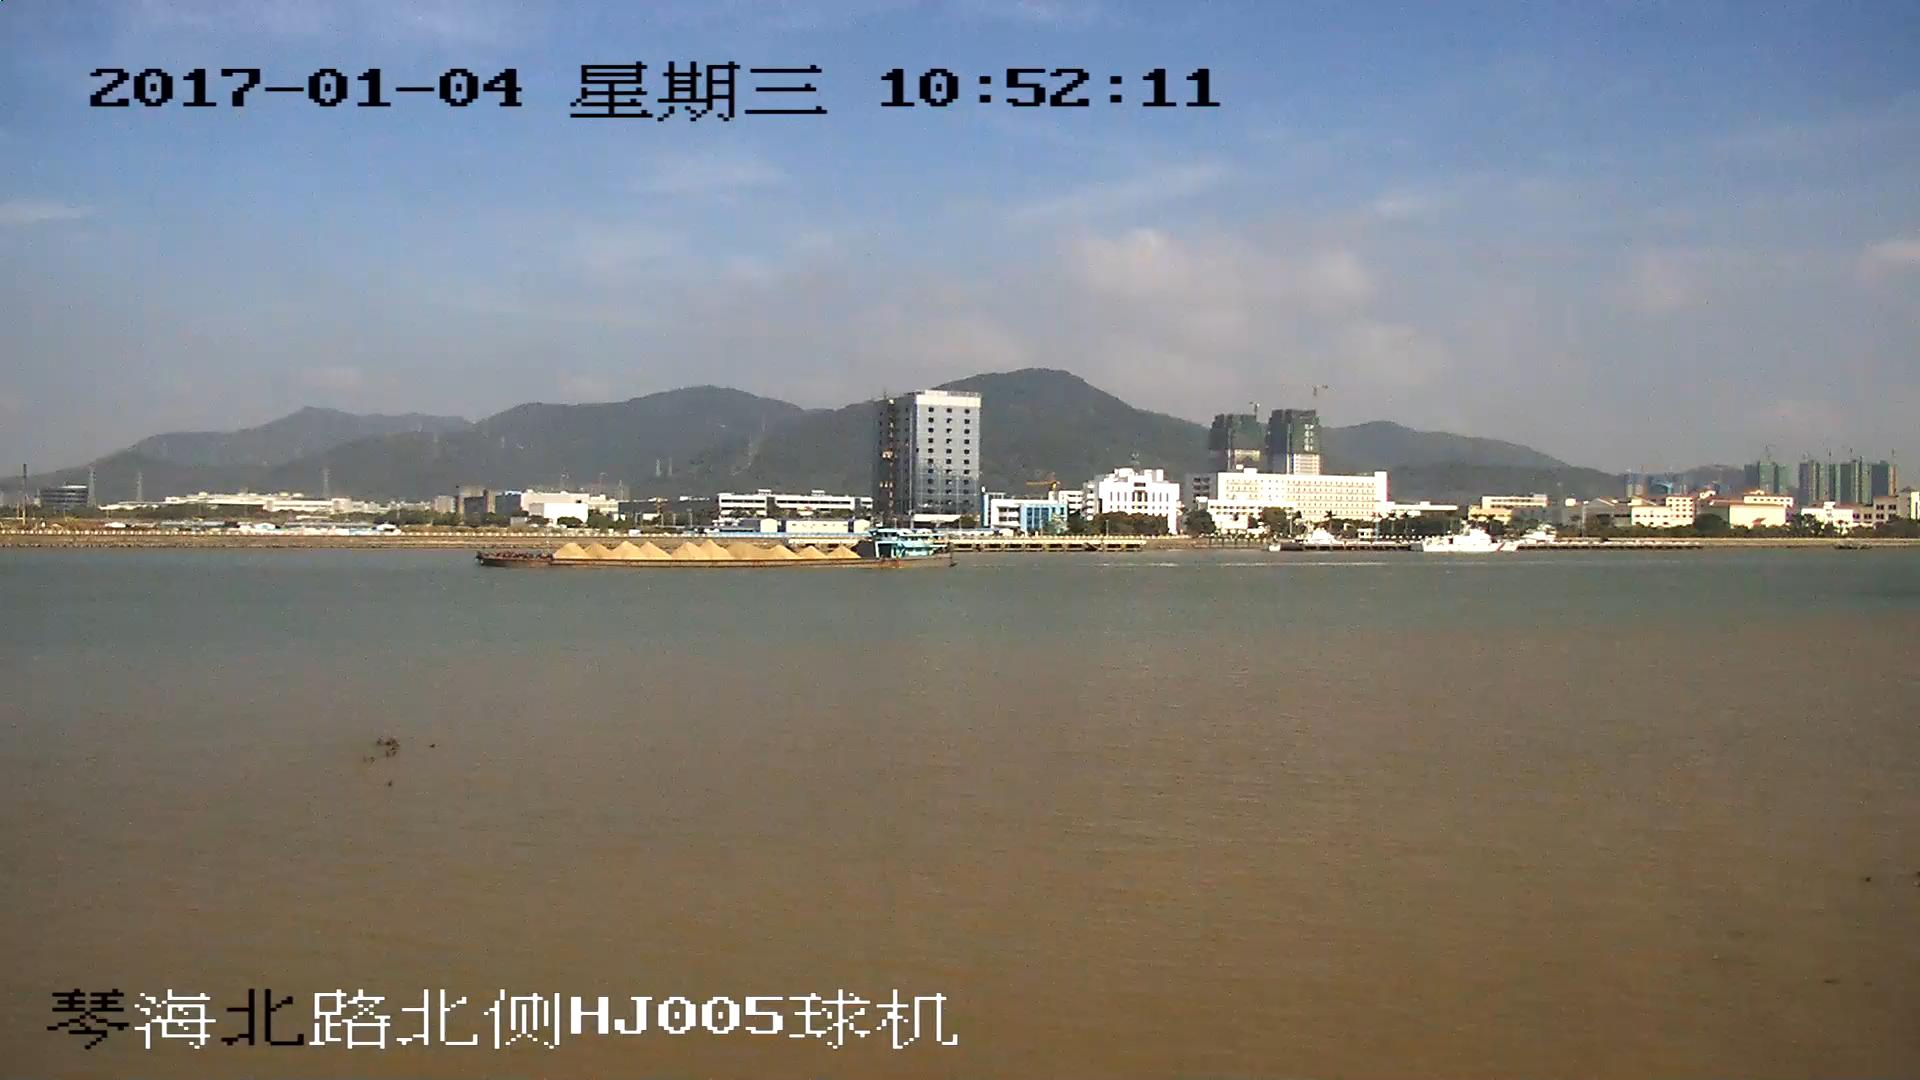ore carrier: (478, 531, 943, 569)
